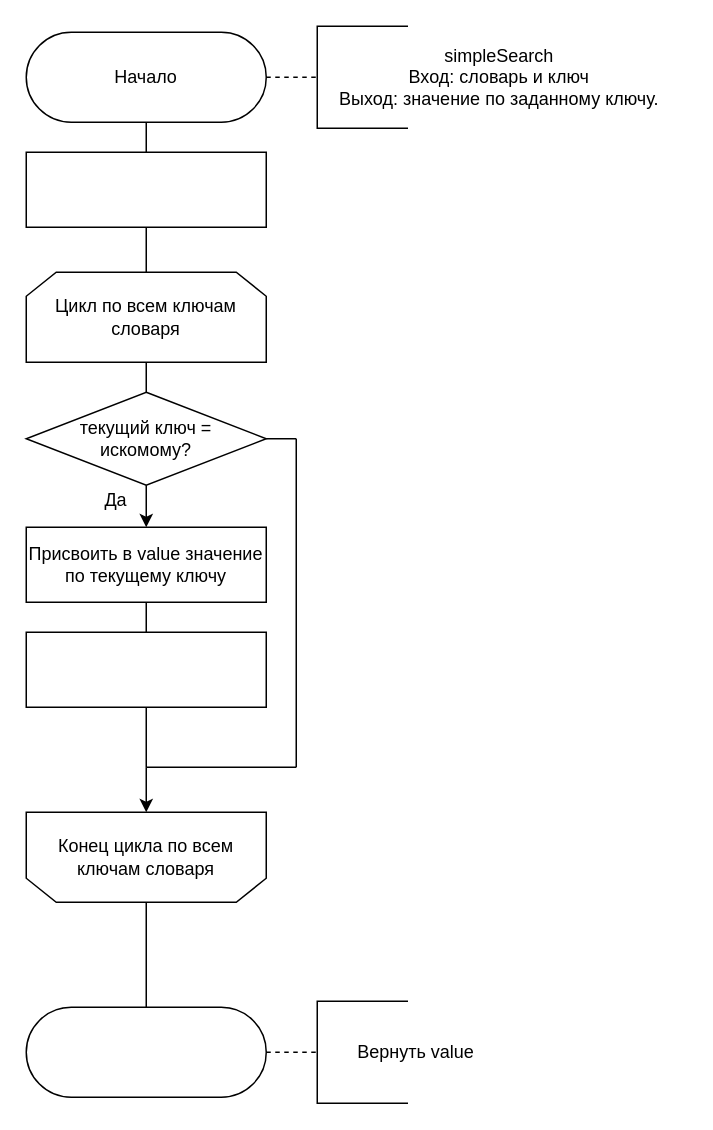
Image size: 713x1130. Some labels were removed from this diagram. Each missing label, with the box of its shape:
Инициализировать value пустым значением: (25, 151, 266, 227)
Конец: (25, 1006, 266, 1097)
Прервать цикл: (25, 631, 266, 707)
